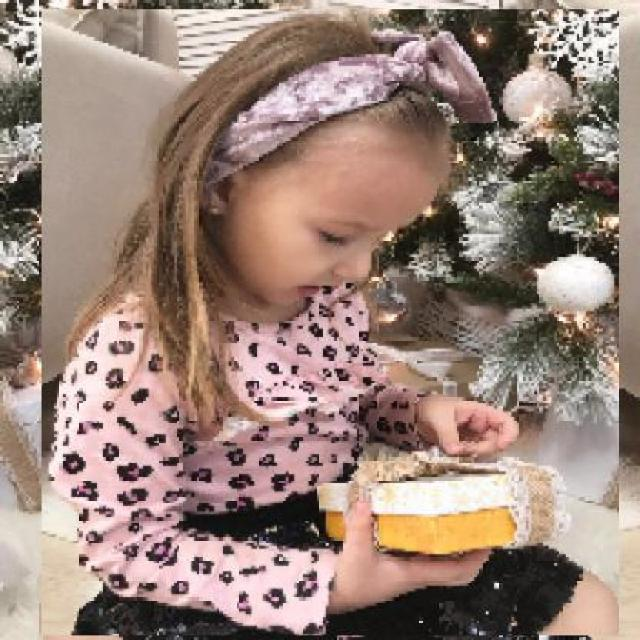child: (40, 9, 620, 637)
